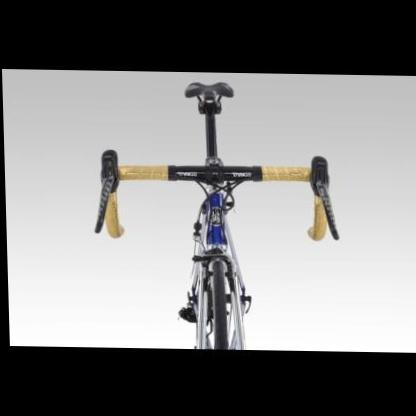Bicycle: (67, 73, 374, 348)
